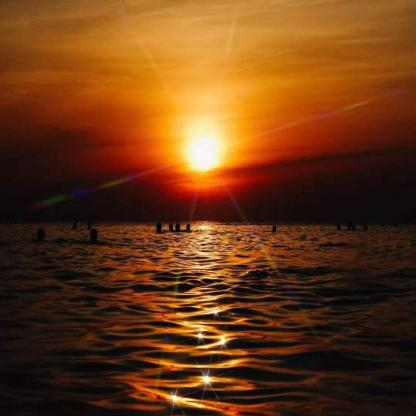other: (172, 116, 236, 184)
